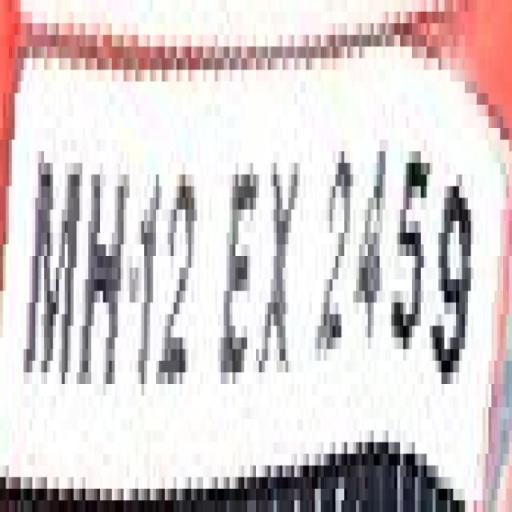number plate: (26, 58, 509, 489)
